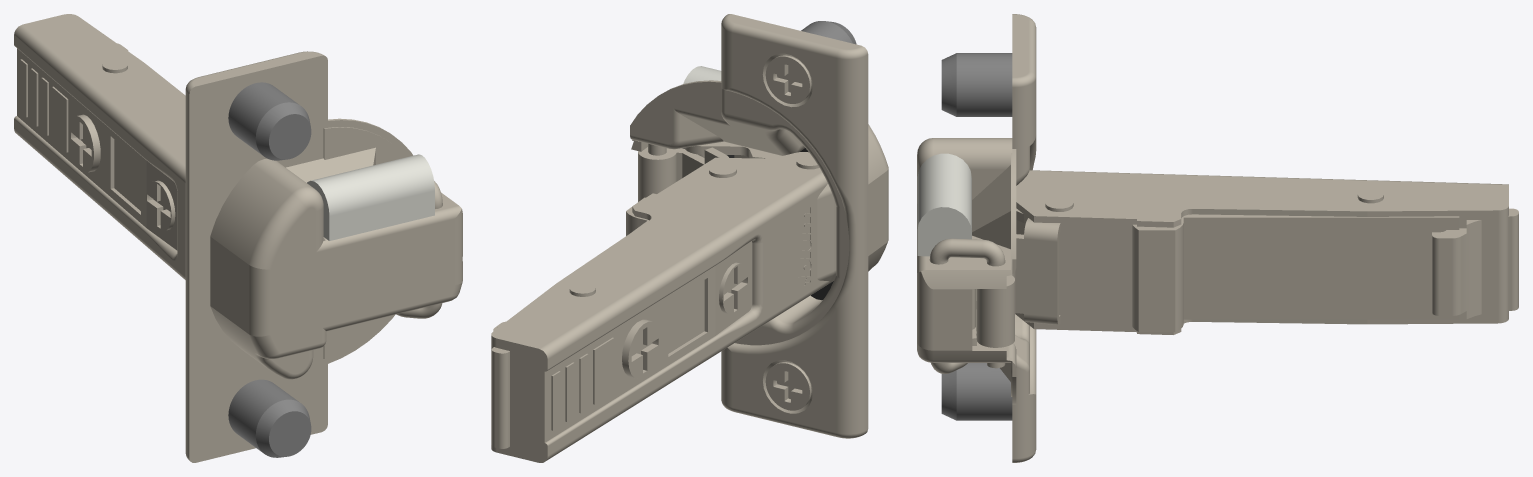
3 renders of one model, left to right at view 1: azimuth 30°, elevation 25°; view 2: azimuth 150°, elevation 25°; view 3: azimuth 270°, elevation 25°, orthographic. The views are drawn at different scales.
Parts seen in each view (by area): view 1: bau2460033743-1, bau2460567541-1, bau0059100308-1, bau0059100308-2; view 2: bau2460567541-1, bau2460033743-1, bau0059100308-1, bau2460027380-1, bau0019426112-1, bau0059100308-2, bau2460023250-1; view 3: bau0019426112-1, bau2460567541-1, bau2460033743-1, bau2460027380-1, bau0059100308-1, bau0059100308-2.
Part boxes in pixels (x1,y1,x2,y2): bau2460033743-1: (185, 51, 462, 462); bau2460567541-1: (14, 14, 185, 279); bau0059100308-1: (228, 82, 311, 160); bau0059100308-2: (228, 379, 311, 457); bau2460567541-1: (491, 152, 836, 462); bau2460033743-1: (630, 14, 888, 438); bau0059100308-1: (765, 21, 856, 103); bau2460027380-1: (638, 147, 728, 201); bau0019426112-1: (491, 197, 648, 448); bau0059100308-2: (765, 362, 811, 410); bau2460023250-1: (684, 141, 781, 158); bau0019426112-1: (1132, 208, 1518, 332); bau2460567541-1: (1015, 170, 1508, 334); bau2460033743-1: (917, 14, 1036, 462); bau2460027380-1: (976, 208, 1060, 347); bau0059100308-1: (941, 53, 1012, 116); bau0059100308-2: (941, 363, 1012, 420).
Size of the model in its own units: 36.9 by 57 by 80.8.
